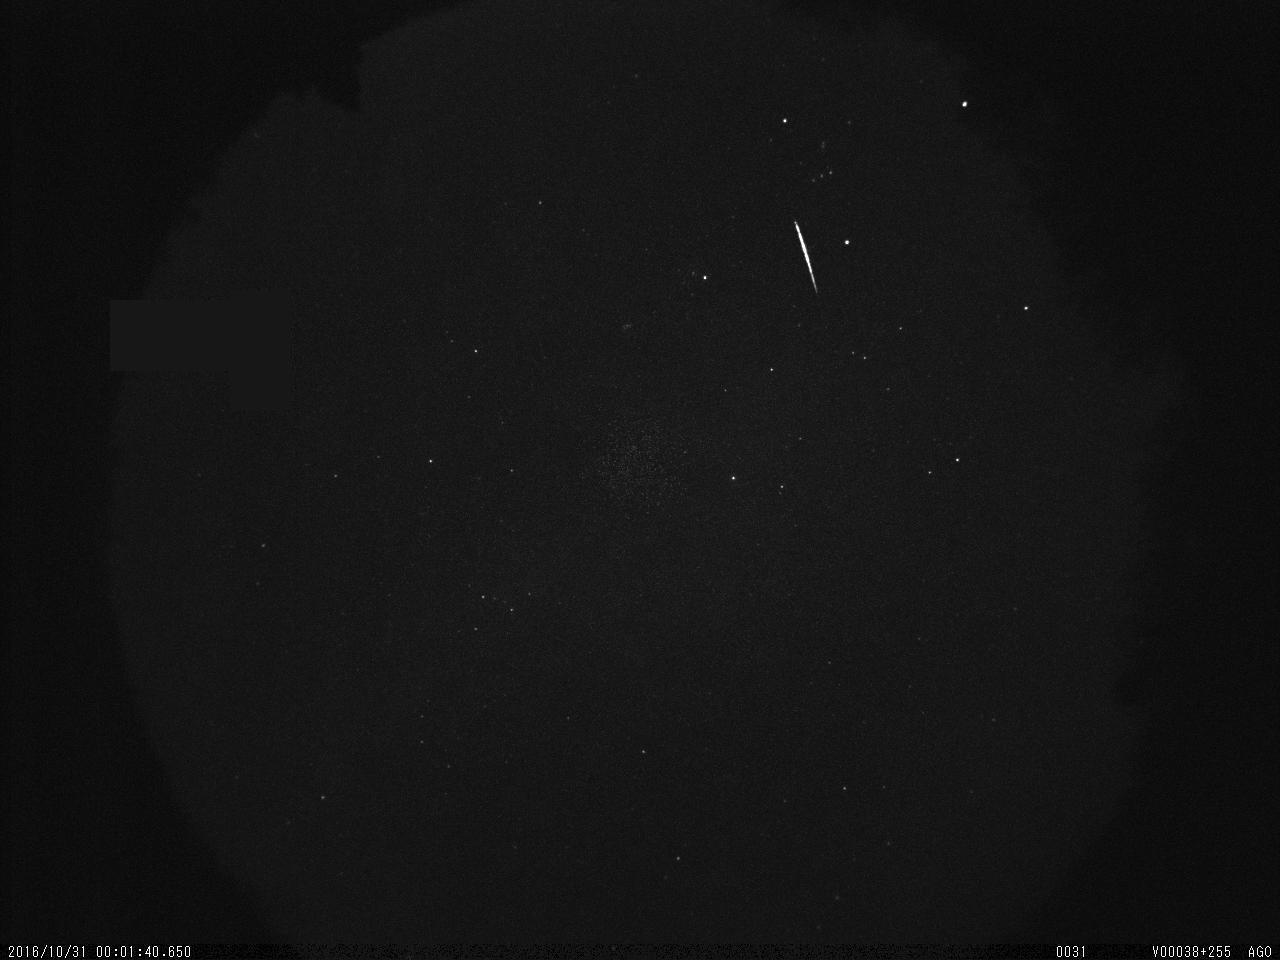meteor: (782, 209, 827, 291)
